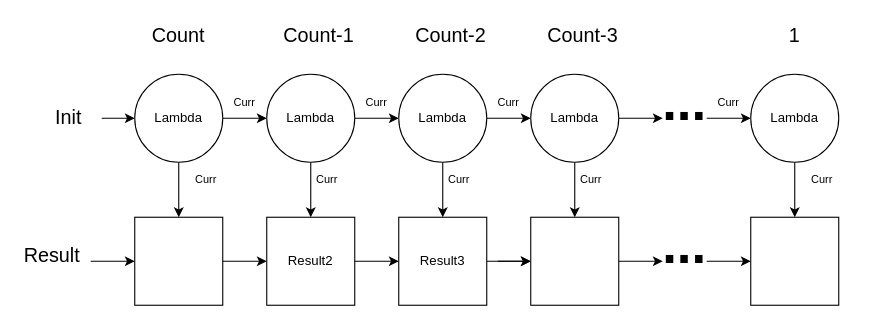
Some shapes in this 873 by 325 pixel diagram are drawn without their labels. The box of each missing label's shape, as (x1, y1, x2, y2) in pixels:
Result1: (134, 216, 223, 305)
Result4: (530, 216, 619, 305)
ResultCount: (750, 216, 839, 305)
